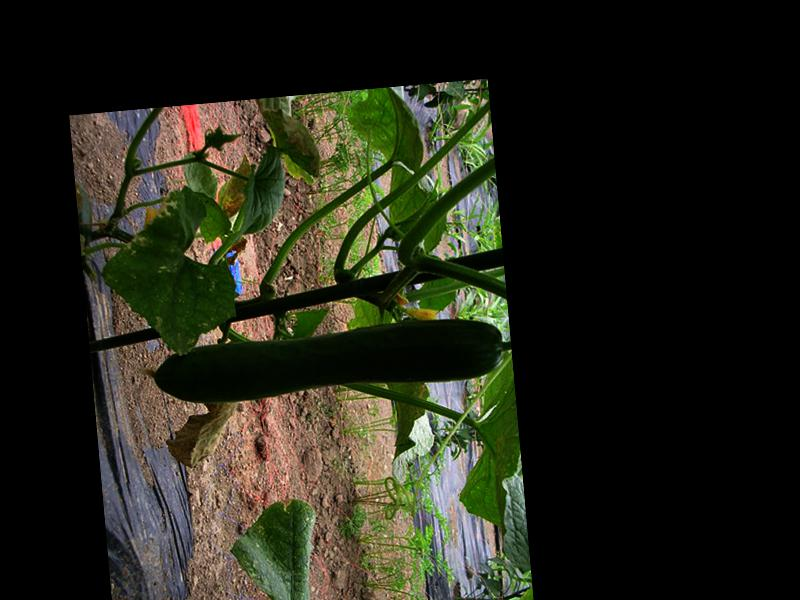Cucumber: (141, 312, 505, 409)
